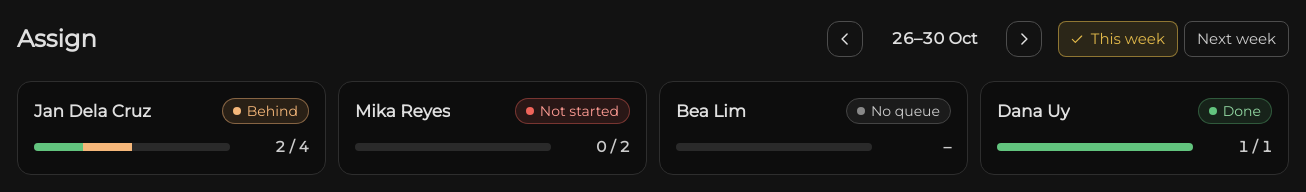
Test: Assign, step one: the interns this week › shows the cards for another week
What coordinates should you click on to do the following:
click the 1st button named "Week before"
I would click on:
 (845, 39)
Its box is [827, 21, 863, 57].
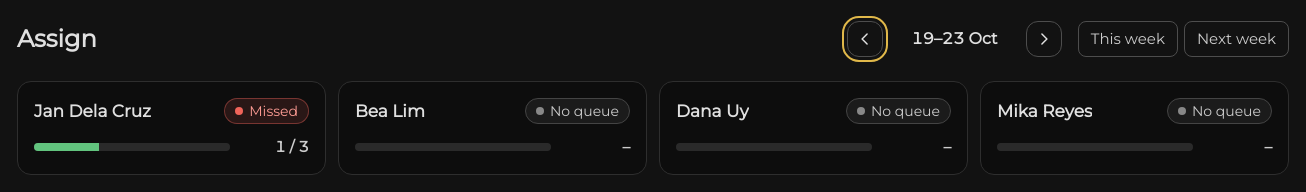
Expected: the text with class "assign-pick__name" reads "Jan Dela Cruz", [34, 100, 151, 120]
Result: the text with class "week-picker__label" reads "19–23 Oct" at [912, 29, 998, 48]
Result: the element showing "Missed" is shown at [224, 98, 309, 124]
